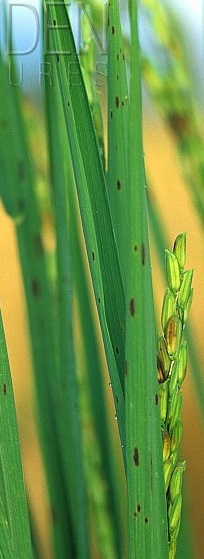Bercak Coklat: (126, 295, 142, 324), (129, 442, 144, 471), (137, 238, 149, 270), (150, 388, 161, 409), (113, 176, 125, 194), (1, 380, 10, 399), (113, 92, 121, 111), (141, 513, 151, 528), (108, 104, 115, 122), (110, 21, 117, 37), (135, 498, 142, 513)
